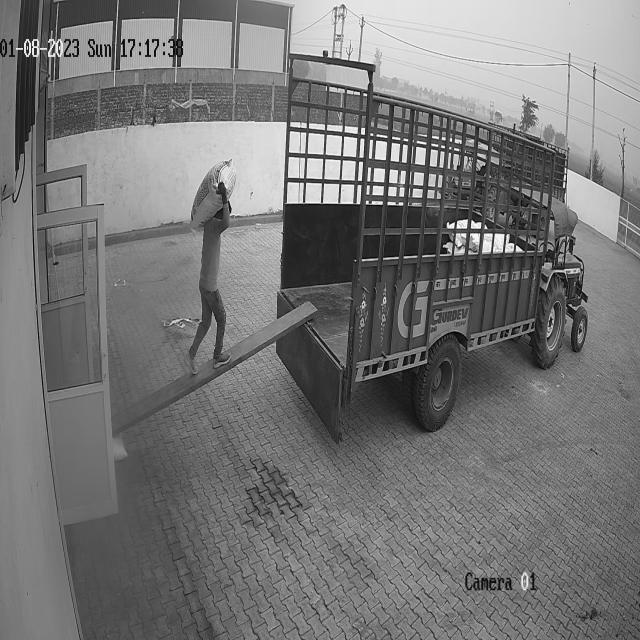sack: (189, 159, 237, 232)
